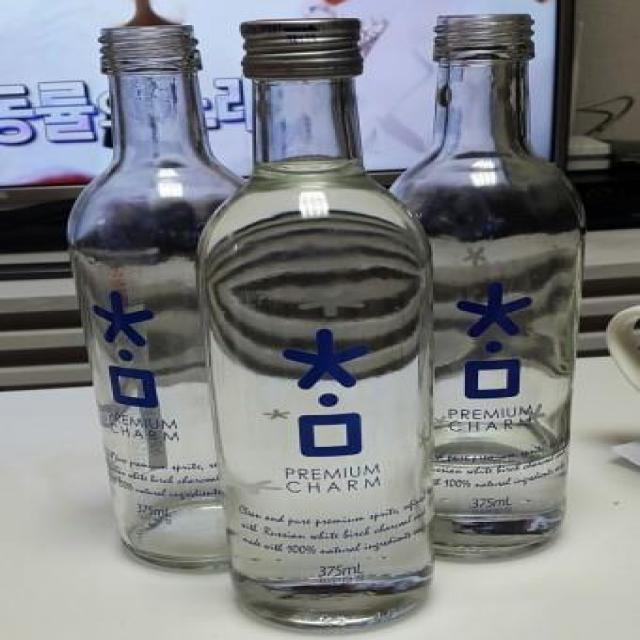soju-bottle: (194, 16, 437, 632), (388, 14, 588, 562), (65, 23, 248, 570)
